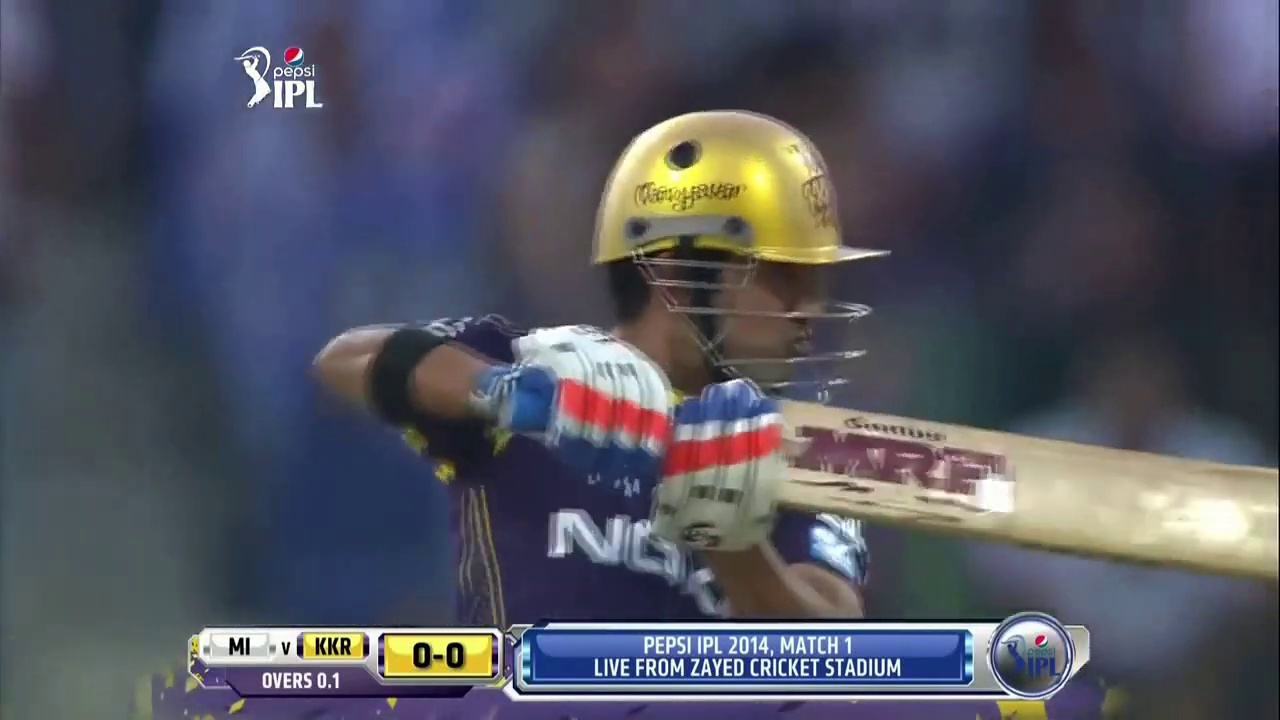bat: (786, 399, 1279, 581)
